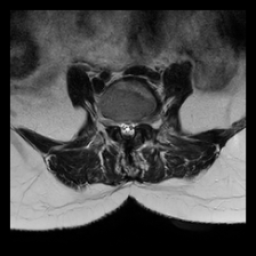CCS_stenosis: (124, 114, 130, 144)
LFS_stenosis: (136, 110, 142, 132)
LLS_stenosis: (130, 114, 136, 141)
RFS_stenosis: (110, 112, 117, 131)
RLS_normal: (117, 114, 124, 141)
